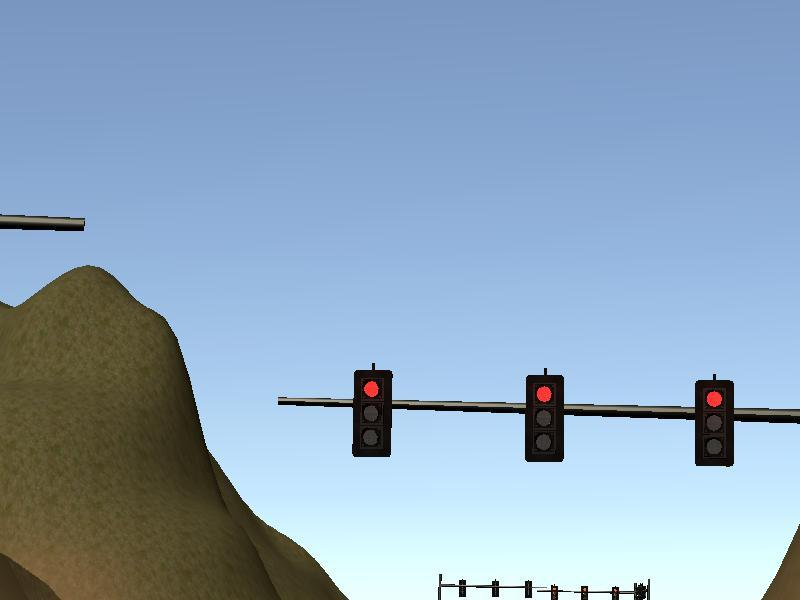Red: (353, 371, 391, 458), (695, 380, 733, 467), (525, 374, 563, 461), (611, 586, 620, 600), (550, 585, 558, 600), (581, 585, 588, 600)
